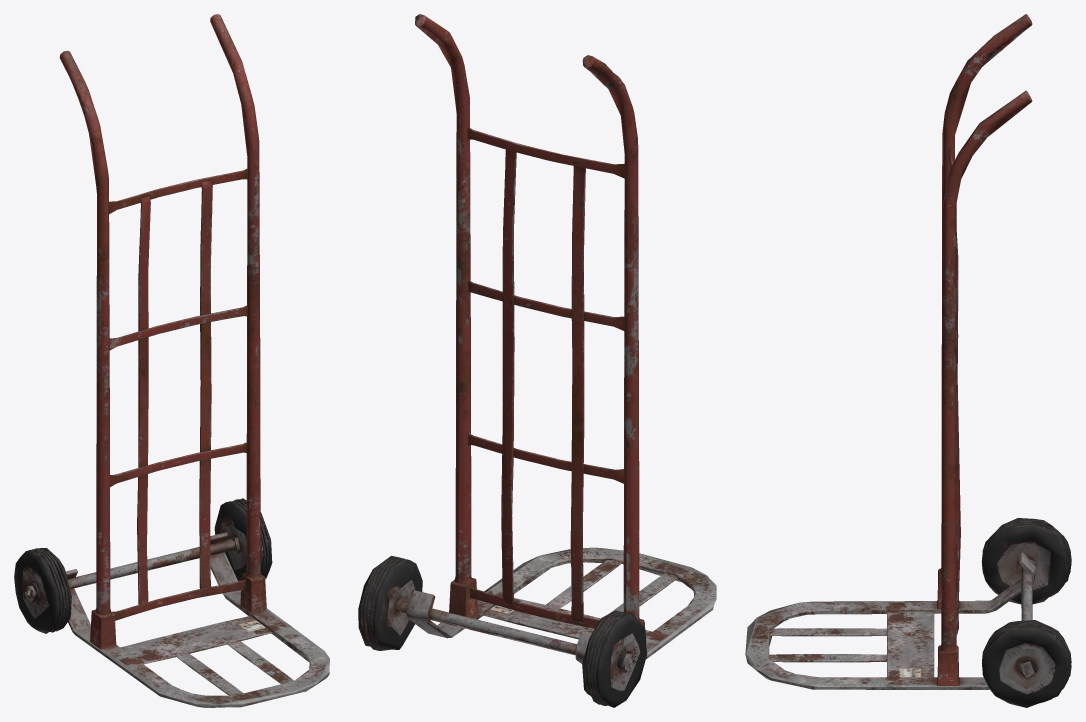
The model's file is hand_truck.slim.glb.
3 views of the same model, side by side, from view 1: azimuth 30°, elevation 25°; view 2: azimuth 150°, elevation 25°; view 3: azimuth 270°, elevation 25° (orthographic). The views are drawn at different scales.
Size of the model in its own units: 0.5933 by 1.4 by 0.6922.
1 material, 1 textured.
